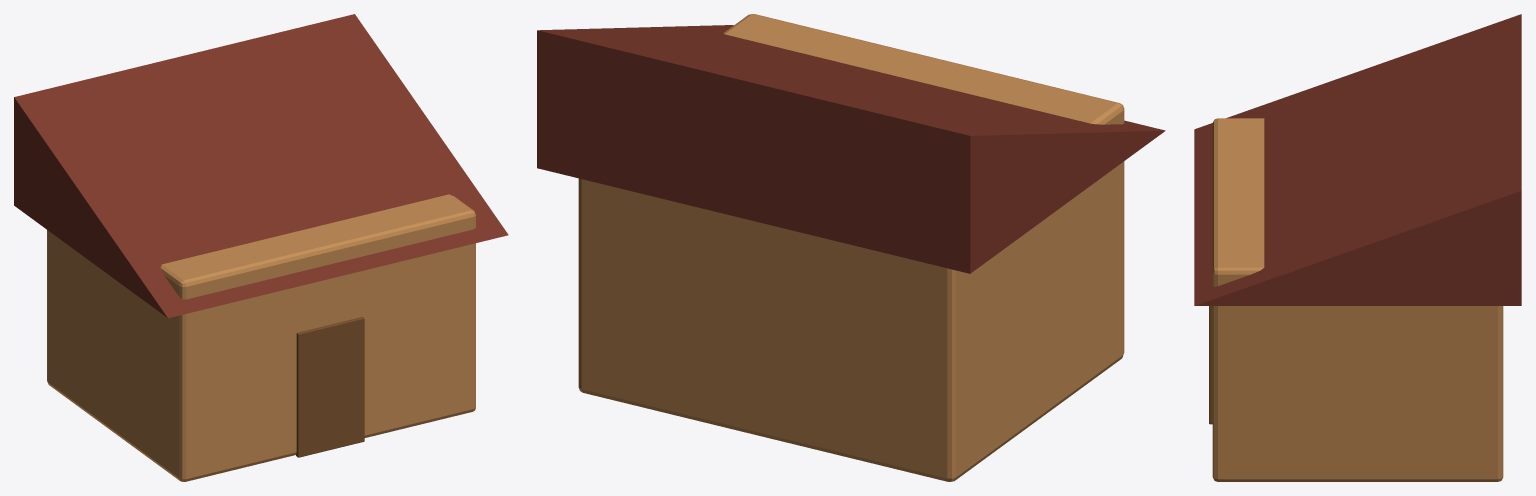
The model's file is Longboarding_Chalet.fbx.
3 views of the same model, side by side, from view 1: azimuth 30°, elevation 25°; view 2: azimuth 150°, elevation 25°; view 3: azimuth 270°, elevation 25° (orthographic). The views are drawn at different scales.
Visible parts, largest first — view 1: Chalet; view 2: Chalet; view 3: Chalet.
Boxes of the visible parts, <box> form: Chalet: <box>14,14,508,481</box>; Chalet: <box>537,14,1165,481</box>; Chalet: <box>1194,14,1521,481</box>.
Bounding box in the file's own units: 4.6 × 3.7 × 3.6.
